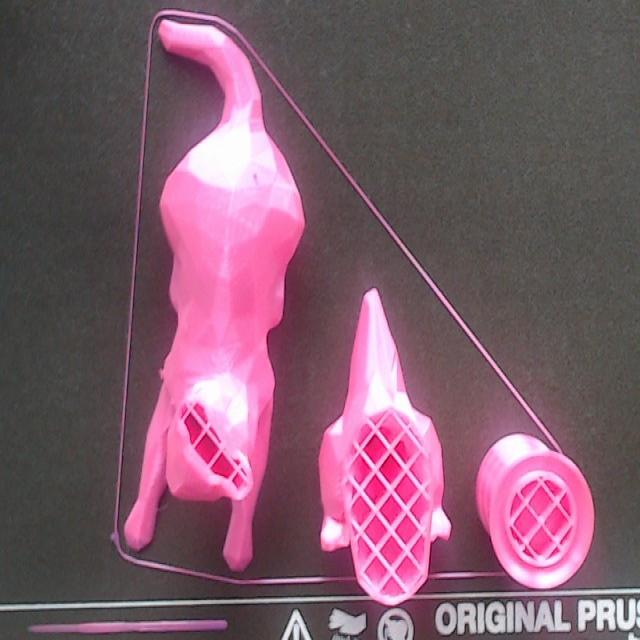mistake: (159, 365, 163, 379)
